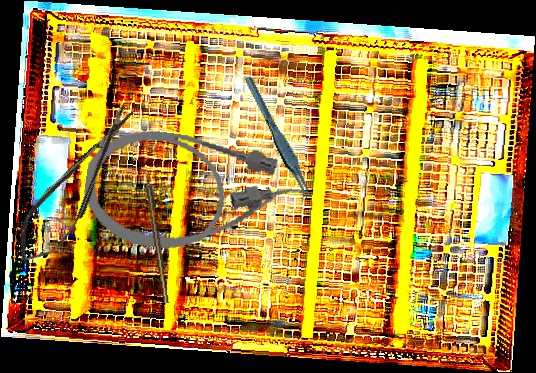Cannula: (78, 122, 312, 267)
Hook Surgical: (143, 166, 170, 304)
Micro Scissor: (2, 96, 153, 274)
Tissue Forceps: (243, 70, 314, 208)
